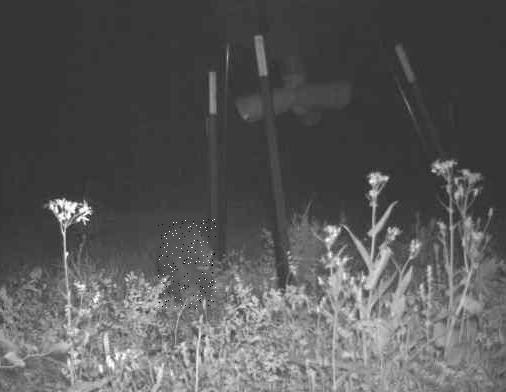Raccoon: (158, 218, 218, 309)
